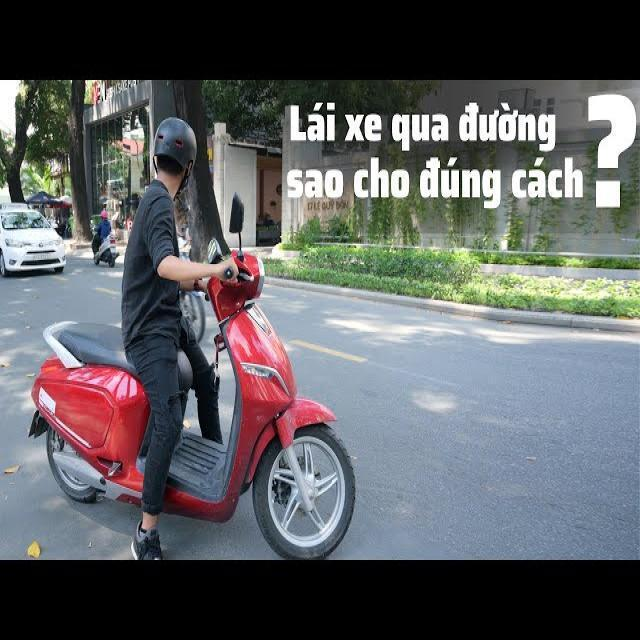car: (0, 202, 66, 282)
motorcycle: (34, 245, 383, 558)
